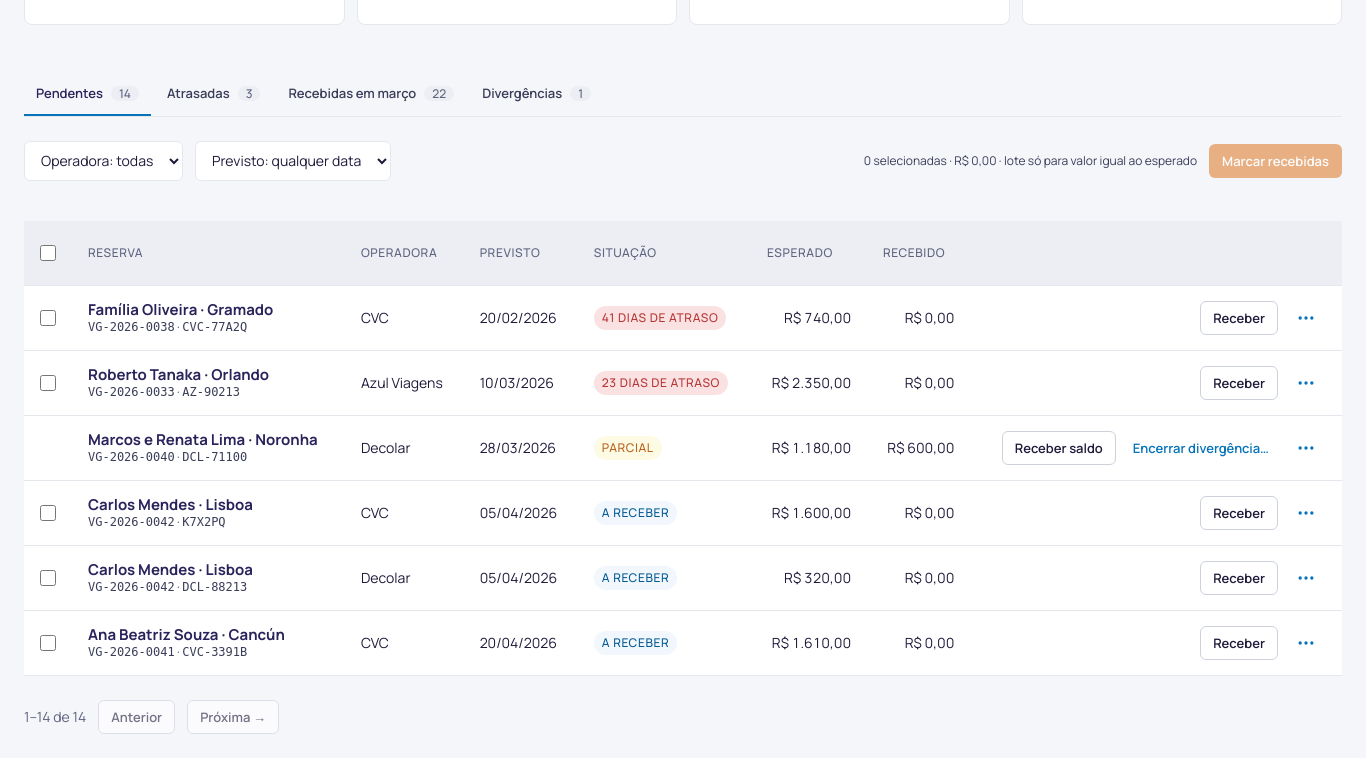
it: selecionar duas linhas mostra a soma dos saldos na barra de seleção
(page scrolled)
Click the checkbox named "Selecionar K7X2PQ" at (48, 513), box [40,505,56,521]
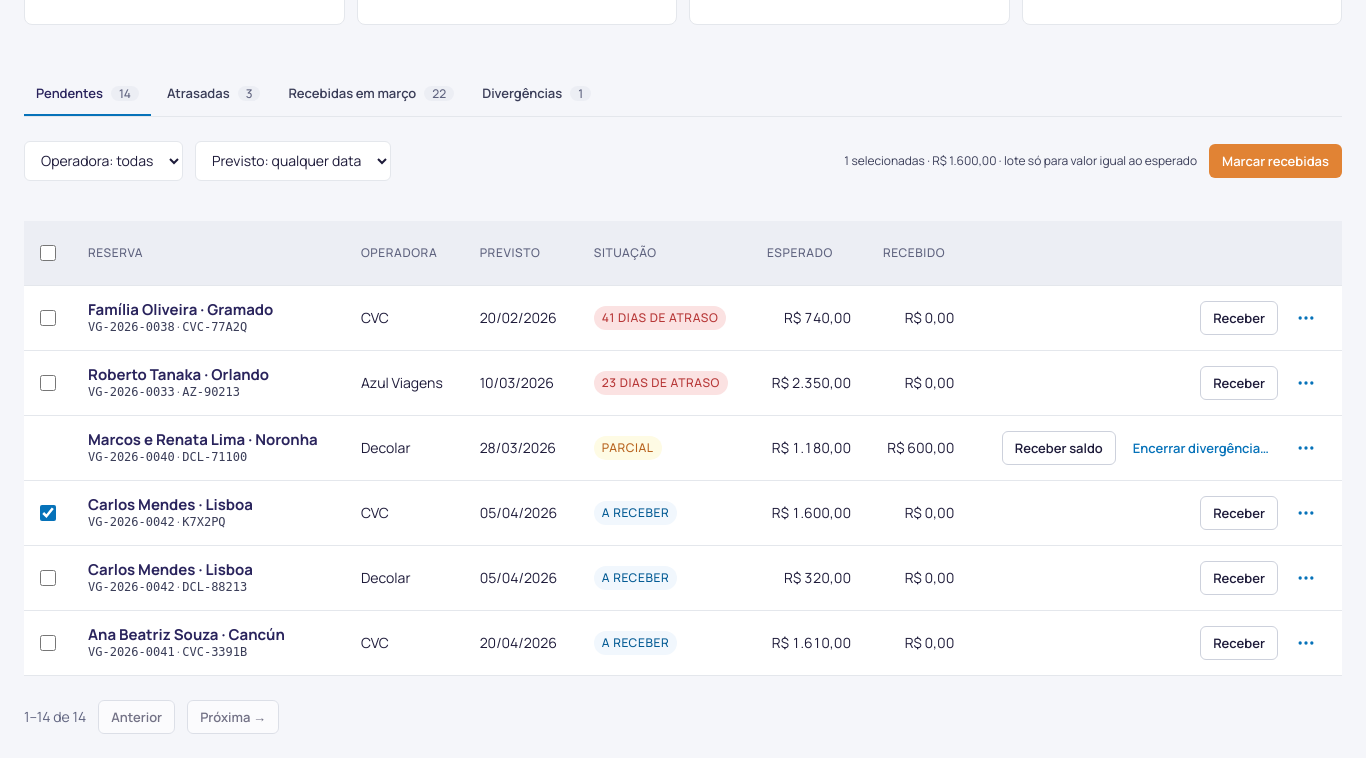
Click the checkbox named "Selecionar DCL-88213" at (48, 578), box [40,570,56,586]
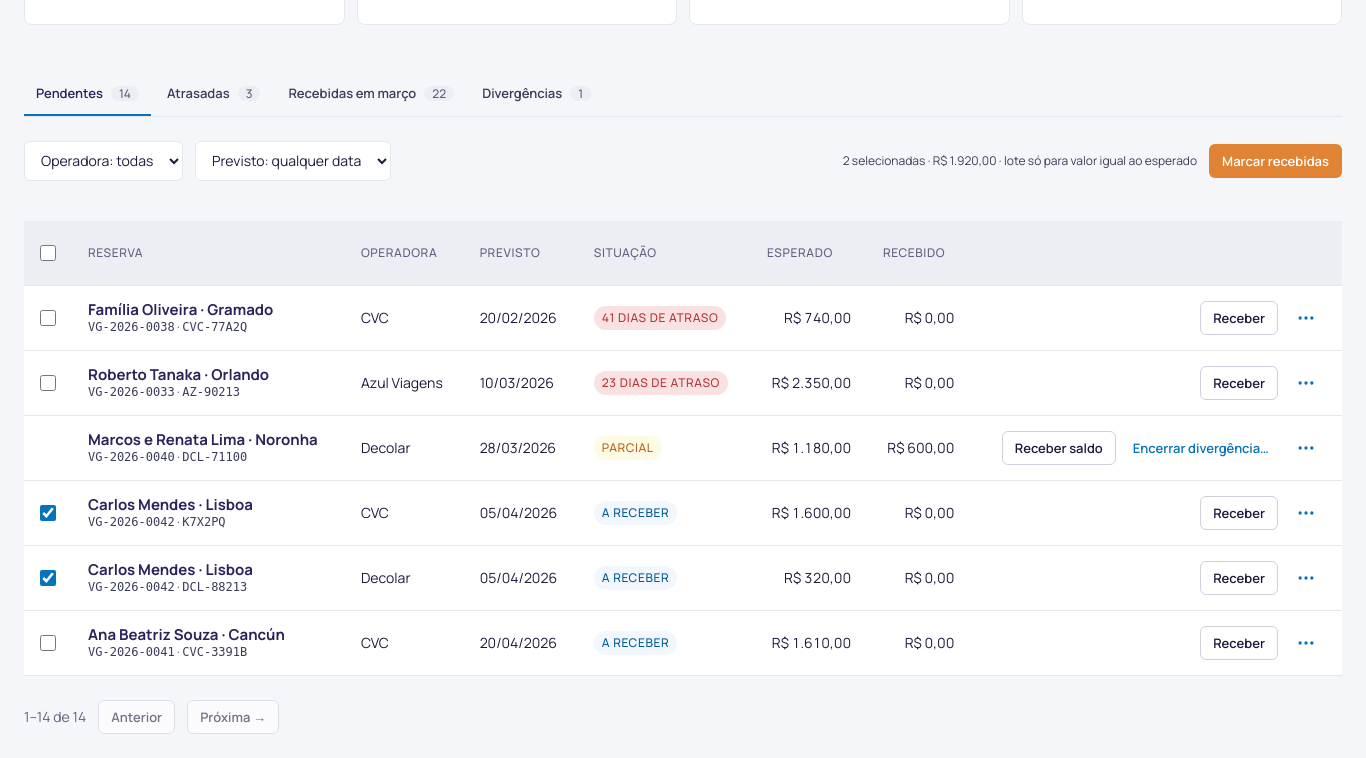
Now the text "2 selecionadas · R$ 1.920,00 · lote só para valor igual ao esperado" is shown, box [843,153,1197,169]
